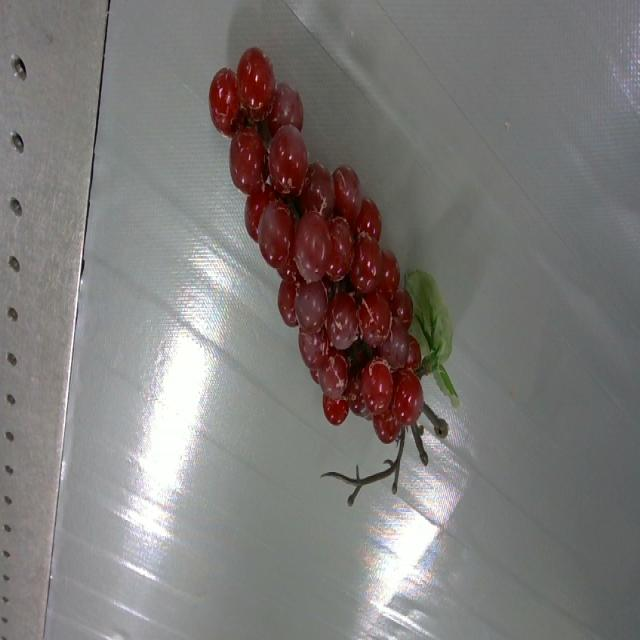grape: (209, 46, 458, 505)
